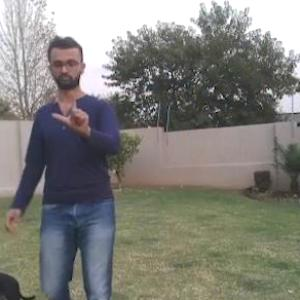land_hand: (49, 90, 97, 134)
